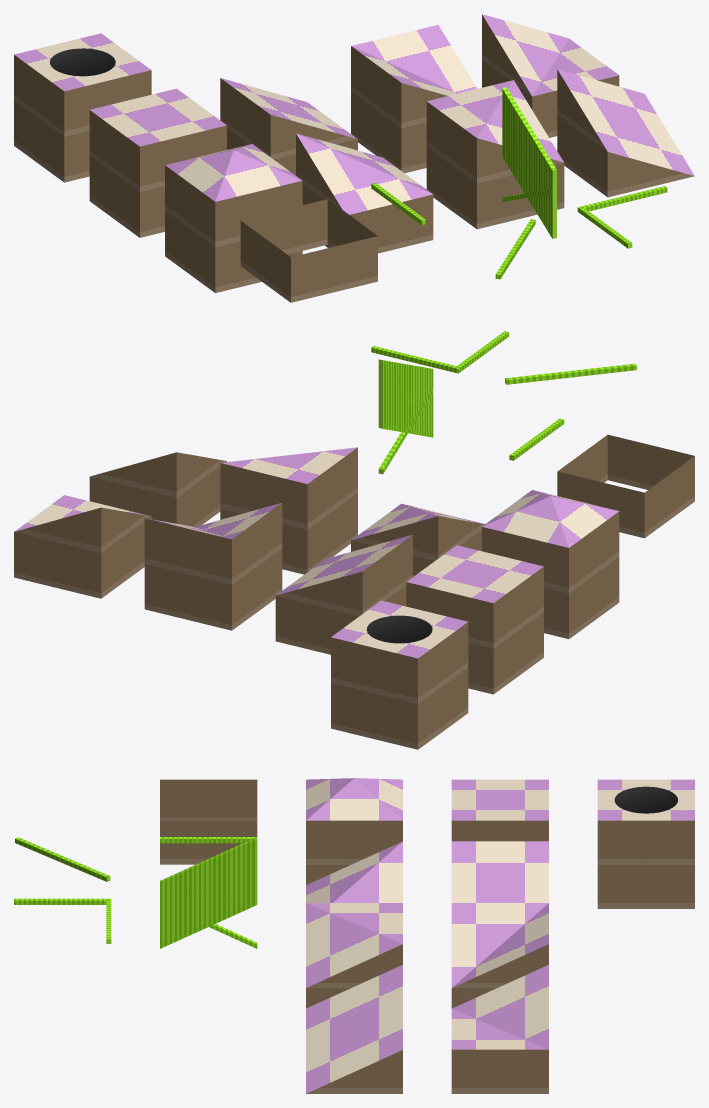
The model's file is tiles_simplified.gltf.
3 renders of one model, top to bottom at view 1: azimuth 30°, elevation 25°; view 2: azimuth 150°, elevation 25°; view 3: azimuth 270°, elevation 25°, orthographic. The views are drawn at different scales.
Parts seen in each view (by area): view 1: Peak -col, Hole -col, Flat -col, SM_BR -col, SV_BR -col, Slope_BR -col, Half_Empty -col, TM_BR -col, TV_BR -col, Slope_R -col, Wall__SL -colonly.001, Wall__TR (+2 smaller); view 2: Hole -col, SV_BR -col, Flat -col, Peak -col, SM_BR -col, TV_BR -col, Slope_R -col, Half_Empty -col, Slope_BR -col, TM_BR -col, Wall__SL -colonly.001, Wall__TR (+1 smaller); view 3: Hole -col, TV_BR -col, Slope_BR -col, Peak -col, SV_BR -col, SM_BR -col, Half_Empty -col, Wall__SL -colonly.001, Flat -col, Slope_R -col, TM_BR -col, Wall__TR (+2 smaller).
Part boxes in pixels (left/top/right/bottom): Peak -col: left=165, top=144, right=302, bottom=292; Hole -col: left=14, top=33, right=151, bottom=182; Flat -col: left=89, top=88, right=226, bottom=237; SM_BR -col: left=426, top=80, right=564, bottom=229; SV_BR -col: left=351, top=25, right=477, bottom=173; Slope_BR -col: left=557, top=69, right=694, bottom=197; Half_Empty -col: left=240, top=199, right=377, bottom=302; TM_BR -col: left=296, top=133, right=433, bottom=253; TV_BR -col: left=482, top=14, right=619, bottom=137; Slope_R -col: left=220, top=78, right=357, bottom=175; Wall__SL -colonly.001: left=502, top=87, right=556, bottom=238; Wall__TR: left=577, top=186, right=667, bottom=248; Hole -col: left=331, top=600, right=468, bottom=749; SV_BR -col: left=144, top=503, right=282, bottom=630; Flat -col: left=406, top=545, right=543, bottom=694; Peak -col: left=482, top=490, right=619, bottom=638; SM_BR -col: left=220, top=447, right=357, bottom=574; TV_BR -col: left=14, top=495, right=151, bottom=598; Slope_R -col: left=275, top=534, right=412, bottom=654; Half_Empty -col: left=557, top=434, right=694, bottom=538; Slope_BR -col: left=89, top=452, right=226, bottom=526; TM_BR -col: left=351, top=503, right=484, bottom=576; Wall__SL -colonly.001: left=378, top=359, right=433, bottom=437; Wall__TR: left=371, top=331, right=508, bottom=373; Hole -col: left=597, top=779, right=694, bottom=908; TV_BR -col: left=451, top=965, right=548, bottom=1093; Slope_BR -col: left=306, top=965, right=402, bottom=1093; Peak -col: left=306, top=778, right=402, bottom=884; SV_BR -col: left=451, top=903, right=548, bottom=1008; SM_BR -col: left=306, top=903, right=402, bottom=1008; Half_Empty -col: left=160, top=779, right=257, bottom=864; Wall__SL -colonly.001: left=160, top=837, right=257, bottom=948; Flat -col: left=451, top=779, right=548, bottom=841; Slope_R -col: left=451, top=841, right=548, bottom=902; TM_BR -col: left=306, top=841, right=402, bottom=902; Wall__TR: left=14, top=898, right=111, bottom=943.
Size of what is drawn, in the model's own units: 11 by 3.5 by 14.
Materials: 1 (1 with a texture image).
